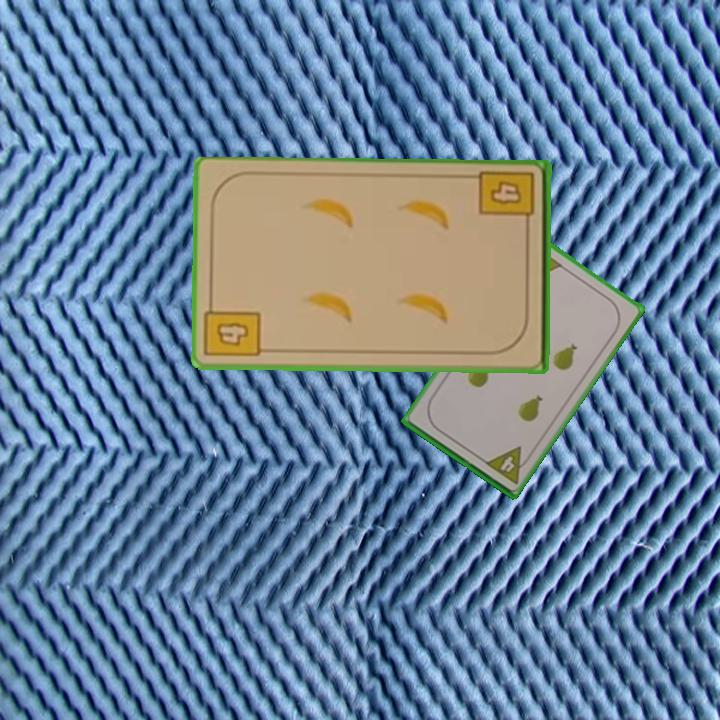4b: (477, 168, 538, 234), (203, 297, 265, 360)
4p: (481, 443, 534, 487)
